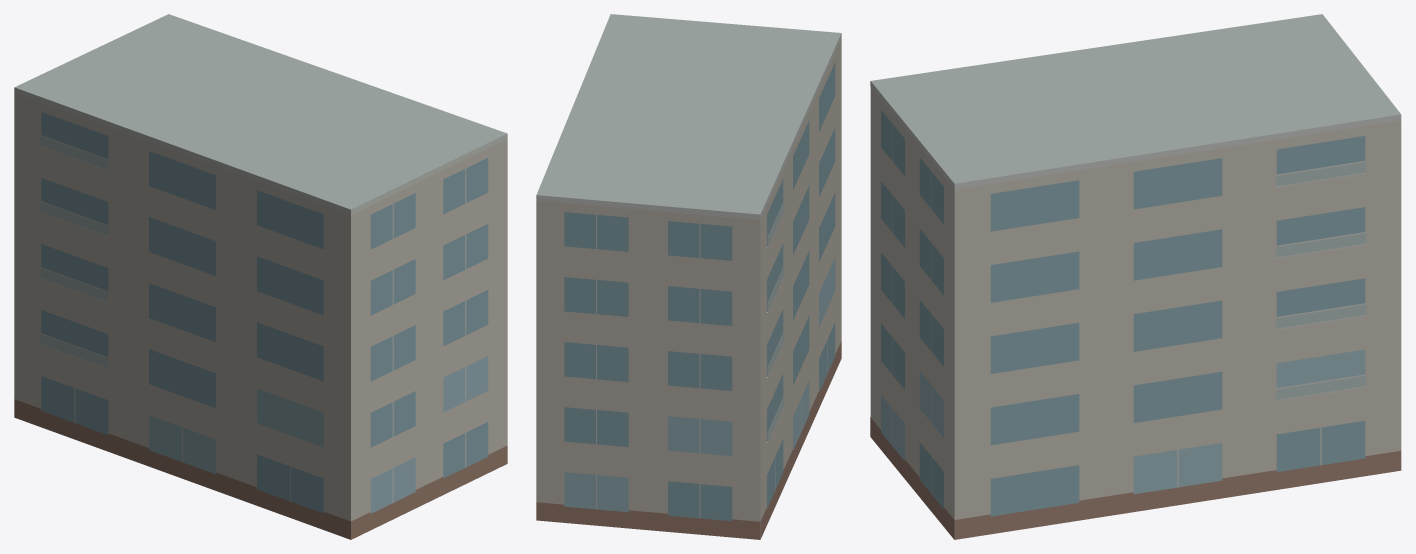
The model's file is survey-upis-32740087.glb.
3 renders of one model, left to right at view 1: azimuth 30°, elevation 25°; view 2: azimuth 150°, elevation 25°; view 3: azimuth 270°, elevation 25°, orthographic. The views are drawn at different scales.
Parts seen in each view (by area): view 1: survey-upis-32740087.tmp; view 2: survey-upis-32740087.tmp; view 3: survey-upis-32740087.tmp.
Boxes of the visible parts, x1,y1,x2,y2 form: survey-upis-32740087.tmp: [14, 14, 507, 539]; survey-upis-32740087.tmp: [536, 14, 841, 539]; survey-upis-32740087.tmp: [870, 14, 1401, 539].
Size of the model in its own units: 14.94 by 14.6 by 19.73.
